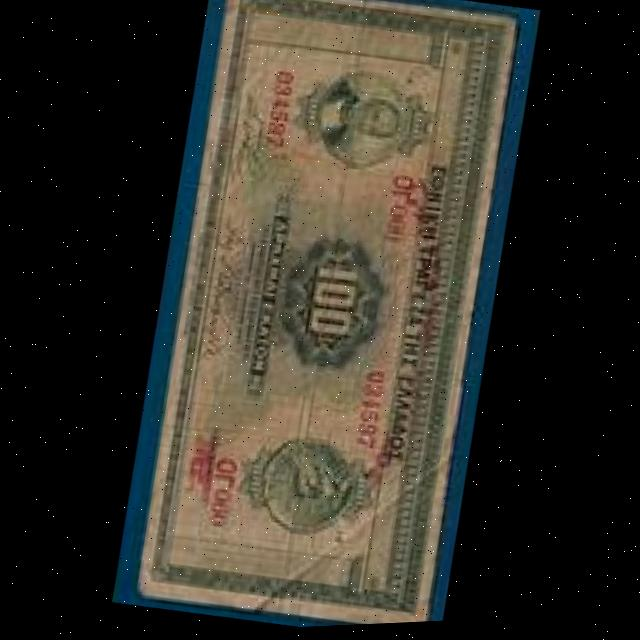banknote: (121, 0, 527, 636), (287, 251, 376, 368)
